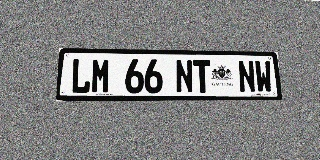6: (125, 59, 144, 93), (144, 59, 163, 93)
L: (70, 58, 91, 94)
M: (91, 58, 111, 94)
N: (175, 59, 194, 93), (237, 60, 256, 93)
T: (193, 60, 212, 93)
W: (254, 60, 273, 93)
